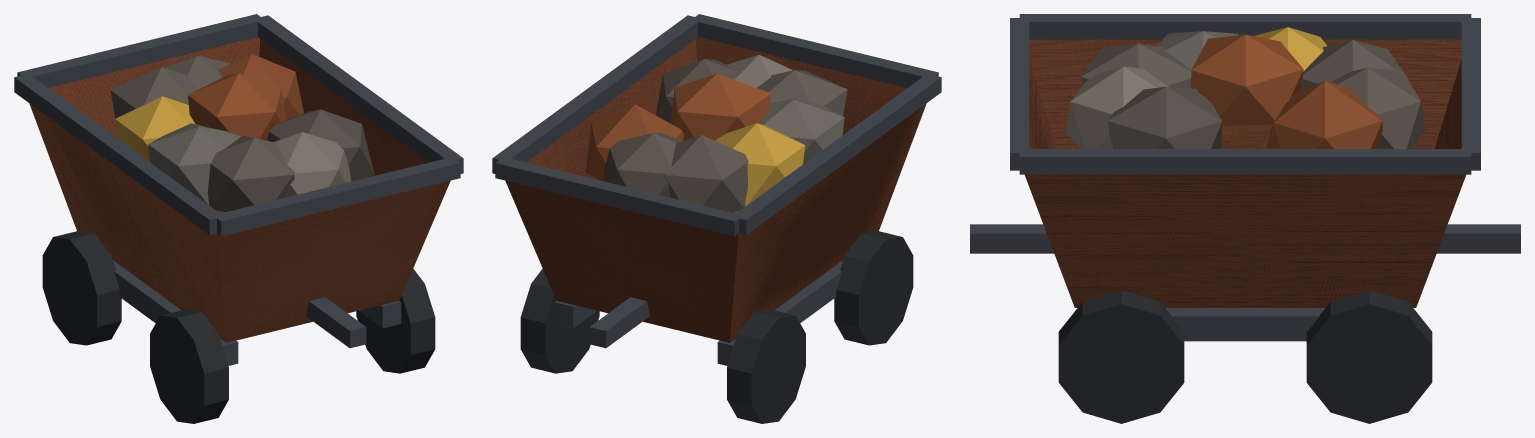
The model's file is mine-cart.glb.
3 views of the same model, side by side, from view 1: azimuth 30°, elevation 25°; view 2: azimuth 150°, elevation 25°; view 3: azimuth 270°, elevation 25° (orthographic). The views are drawn at different scales.
Visible parts, largest first — view 1: mine-cart; view 2: mine-cart; view 3: mine-cart.
Boxes of the visible parts, left/top/right/bottom form: mine-cart: left=14, top=14, right=463, bottom=423; mine-cart: left=492, top=14, right=941, bottom=423; mine-cart: left=970, top=14, right=1520, bottom=423.
Size of the model in its own units: 1.23 by 1.3 by 2.
